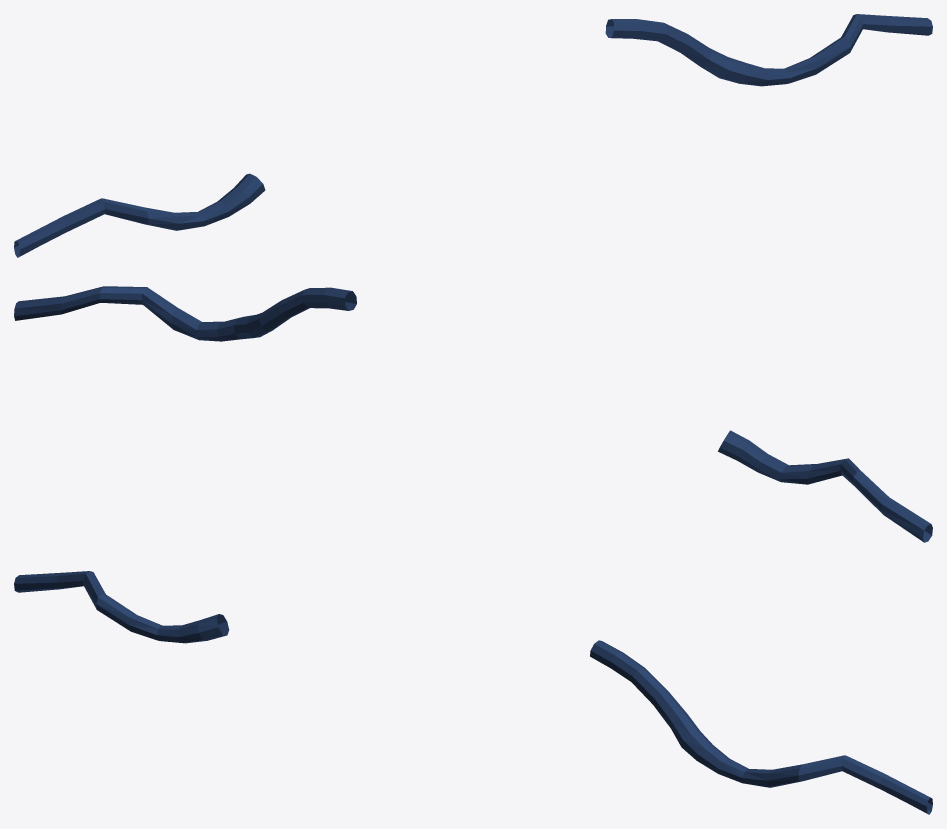
The model's file is Vena Axilar.FBX.
The picture shows the model from 3 angles, top to bottom: view 1: azimuth 30°, elevation 25°; view 2: azimuth 150°, elevation 25°; view 3: azimuth 330°, elevation 25°; orthographic projection.
Parts seen in each view (by area): view 1: CS_Veins; view 2: CS_Veins; view 3: CS_Veins.
Part boxes in pixels (x1,y1,x2,y2): CS_Veins: (14, 14, 932, 257); CS_Veins: (14, 286, 932, 542); CS_Veins: (14, 571, 932, 814).
Size of the model in its own units: 1523 by 160 by 90.14.
